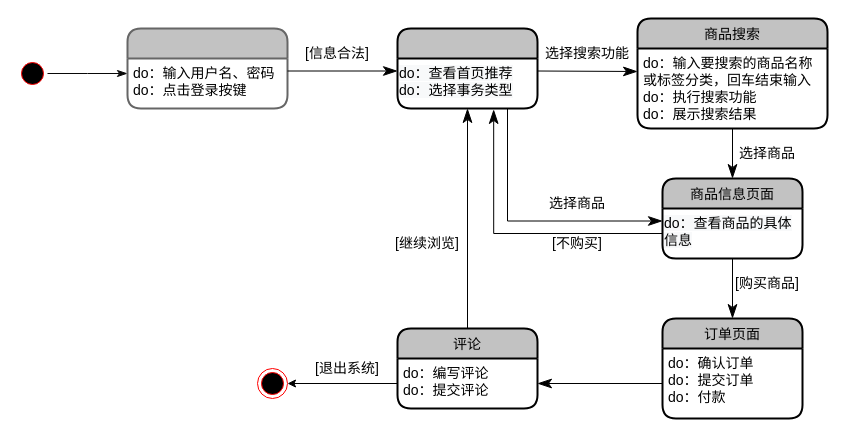
Image size: 846x436. Some labels were removed from this diagram. Each missing label, with the box of its shape:
用户主页: (396, 27, 538, 109)
登录: (126, 27, 288, 109)
